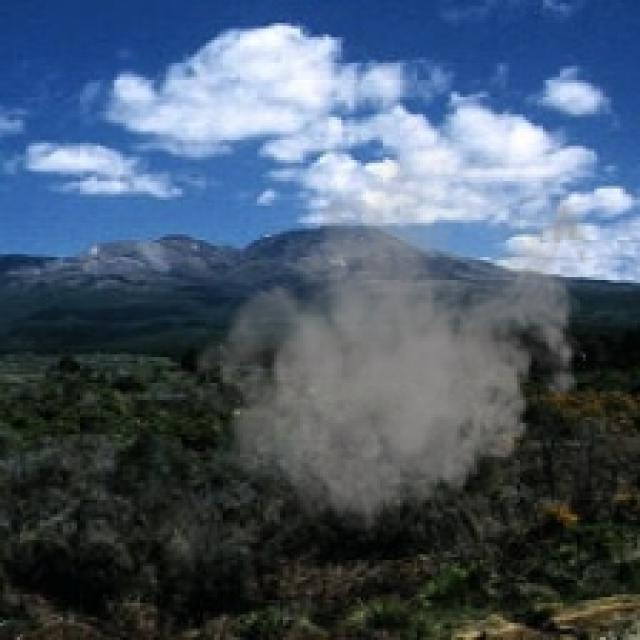smoke: (191, 131, 603, 546)
